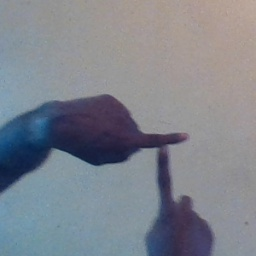T: (101, 96, 214, 220)
